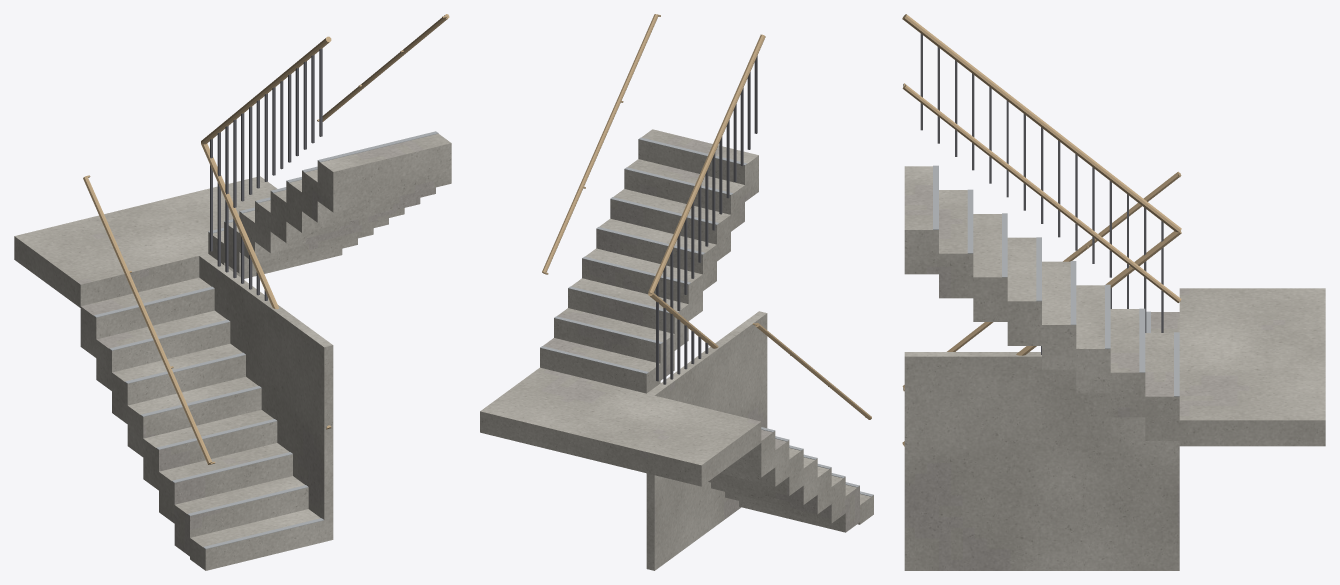
The model's file is stair_1.glb.
3 views of the same model, side by side, from view 1: azimuth 30°, elevation 25°; view 2: azimuth 150°, elevation 25°; view 3: azimuth 270°, elevation 25° (orthographic). The views are drawn at different scales.
Parts seen in each view (by area): view 1: stair_1_concrete, stair_1_iron, stair_1_bronze, stair_1_metal; view 2: stair_1_concrete, stair_1_iron, stair_1_bronze, stair_1_metal; view 3: stair_1_concrete, stair_1_bronze, stair_1_iron, stair_1_metal.
Part boxes in pixels (left/top/right/bottom): stair_1_concrete: left=14, top=133, right=451, bottom=570; stair_1_iron: left=210, top=48, right=322, bottom=300; stair_1_bronze: left=83, top=14, right=449, bottom=464; stair_1_metal: left=93, top=131, right=438, bottom=549; stair_1_concrete: left=480, top=129, right=873, bottom=570; stair_1_iron: left=656, top=56, right=757, bottom=384; stair_1_bronze: left=542, top=14, right=871, bottom=419; stair_1_metal: left=540, top=137, right=873, bottom=496; stair_1_concrete: left=904, top=166, right=1325, bottom=570; stair_1_bronze: left=902, top=14, right=1181, bottom=446; stair_1_iron: left=920, top=33, right=1163, bottom=354; stair_1_metal: left=933, top=165, right=1179, bottom=396.
Size of the model in its own units: 2.18 by 4.27 by 2.96.
Materials: 4 (1 with a texture image).
